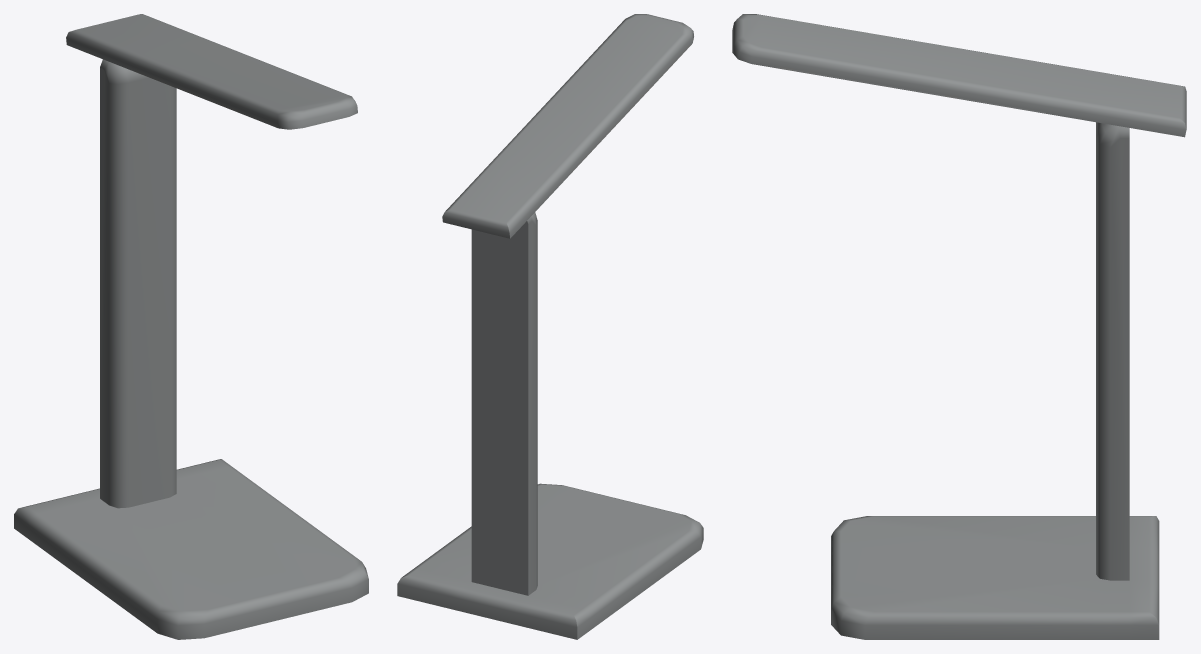
The model's file is Desklamp.glb.
3 views of the same model, side by side, from view 1: azimuth 30°, elevation 25°; view 2: azimuth 150°, elevation 25°; view 3: azimuth 270°, elevation 25° (orthographic). The views are drawn at different scales.
Parts seen in each view (by area): view 1: DeskLamp; view 2: DeskLamp; view 3: DeskLamp.
Part boxes in pixels (x1,y1,x2,y2): DeskLamp: [14, 14, 368, 639]; DeskLamp: [397, 14, 703, 639]; DeskLamp: [732, 14, 1186, 639].
Bounding box in the file's own units: 0.1999 × 0.5 × 0.3677.
1 material, 1 textured.
